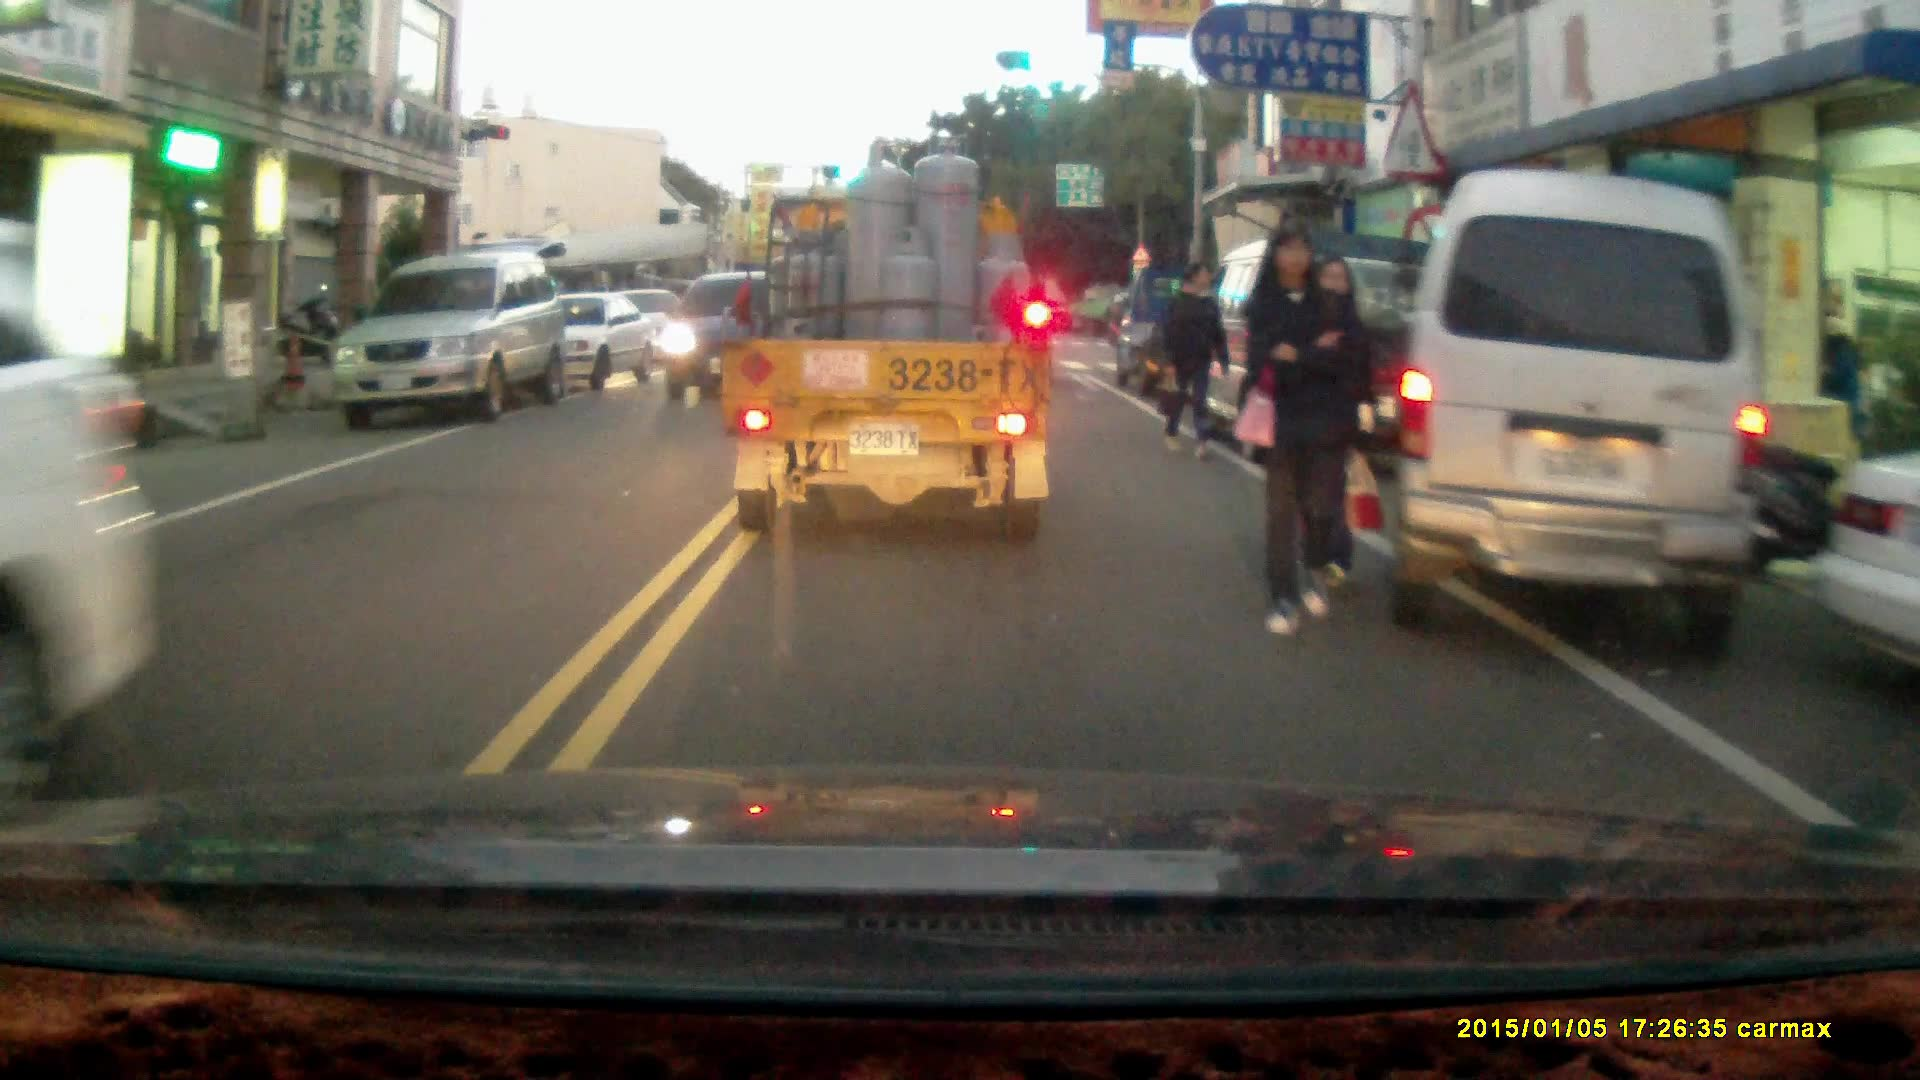pedestrian: (1243, 221, 1357, 636), (1156, 258, 1225, 463)
vehicle: (1387, 169, 1783, 657), (715, 129, 1054, 534), (1179, 221, 1474, 459), (336, 246, 573, 432), (660, 265, 814, 408), (504, 291, 661, 394)
